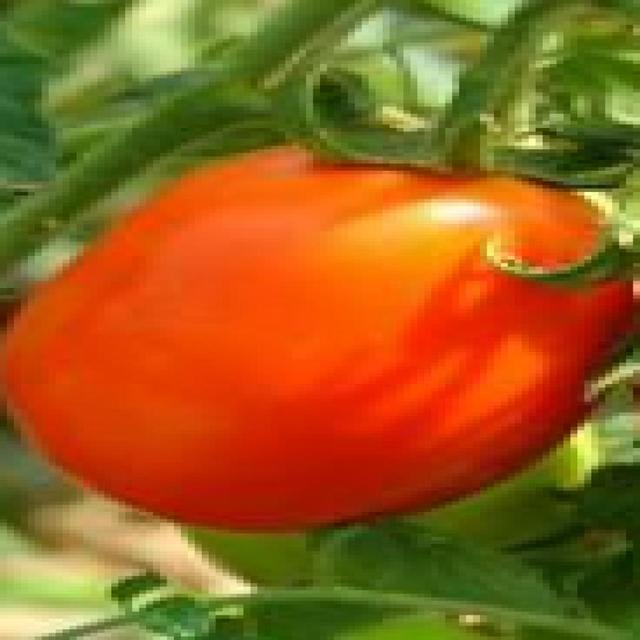Healthy Fruit: (0, 104, 413, 344)
